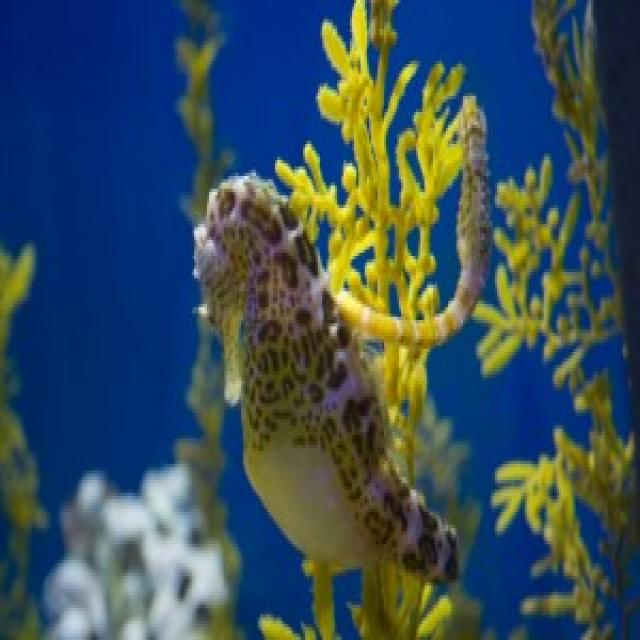Seahorse: (175, 162, 435, 584)
